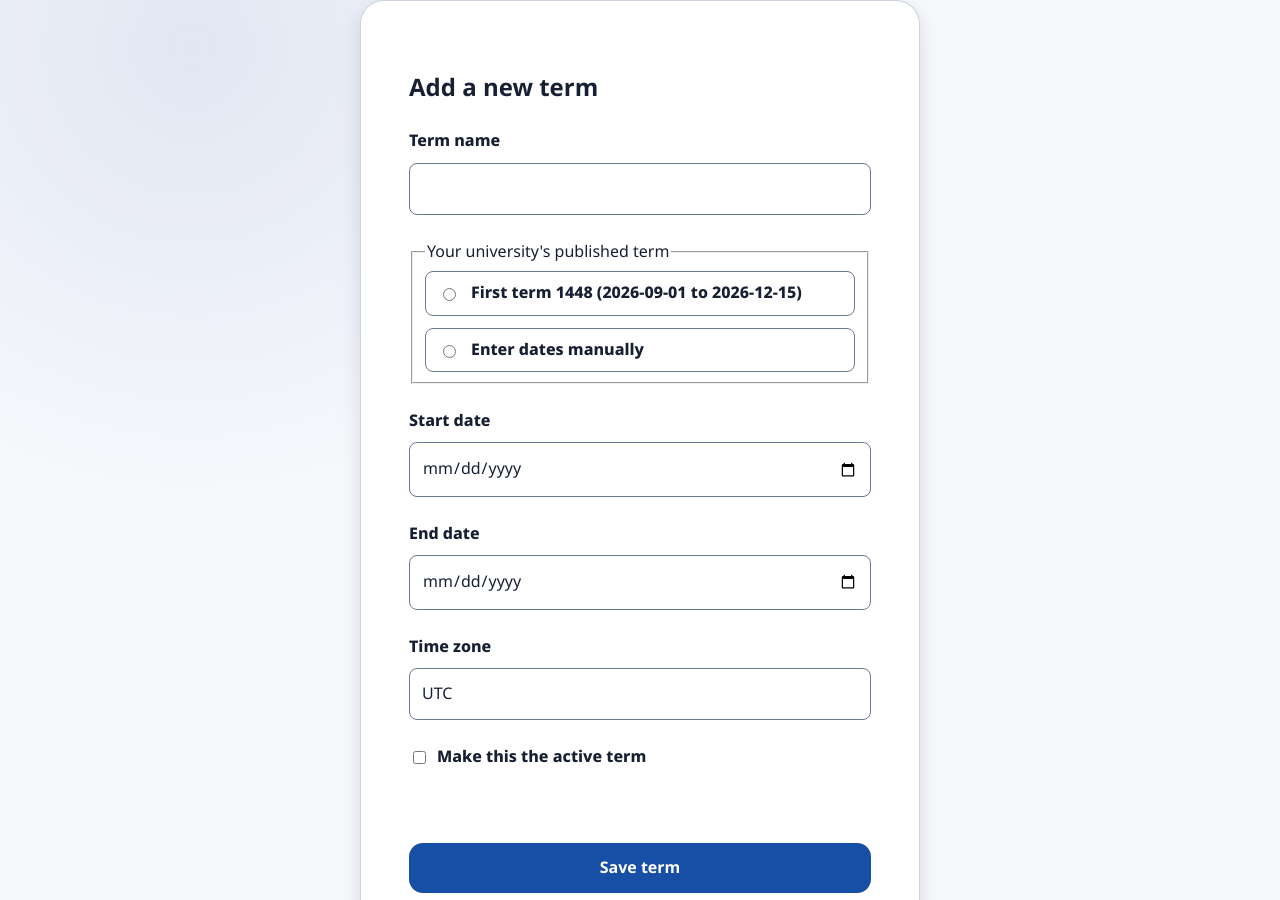
Scenario: academic term views › fills the create form's dates read-only when a published term is chosen
Click the radio button labelled "First term 1448 (2026-09-01 to 2026-12-15)" at (450, 295), box [443,288,456,301]
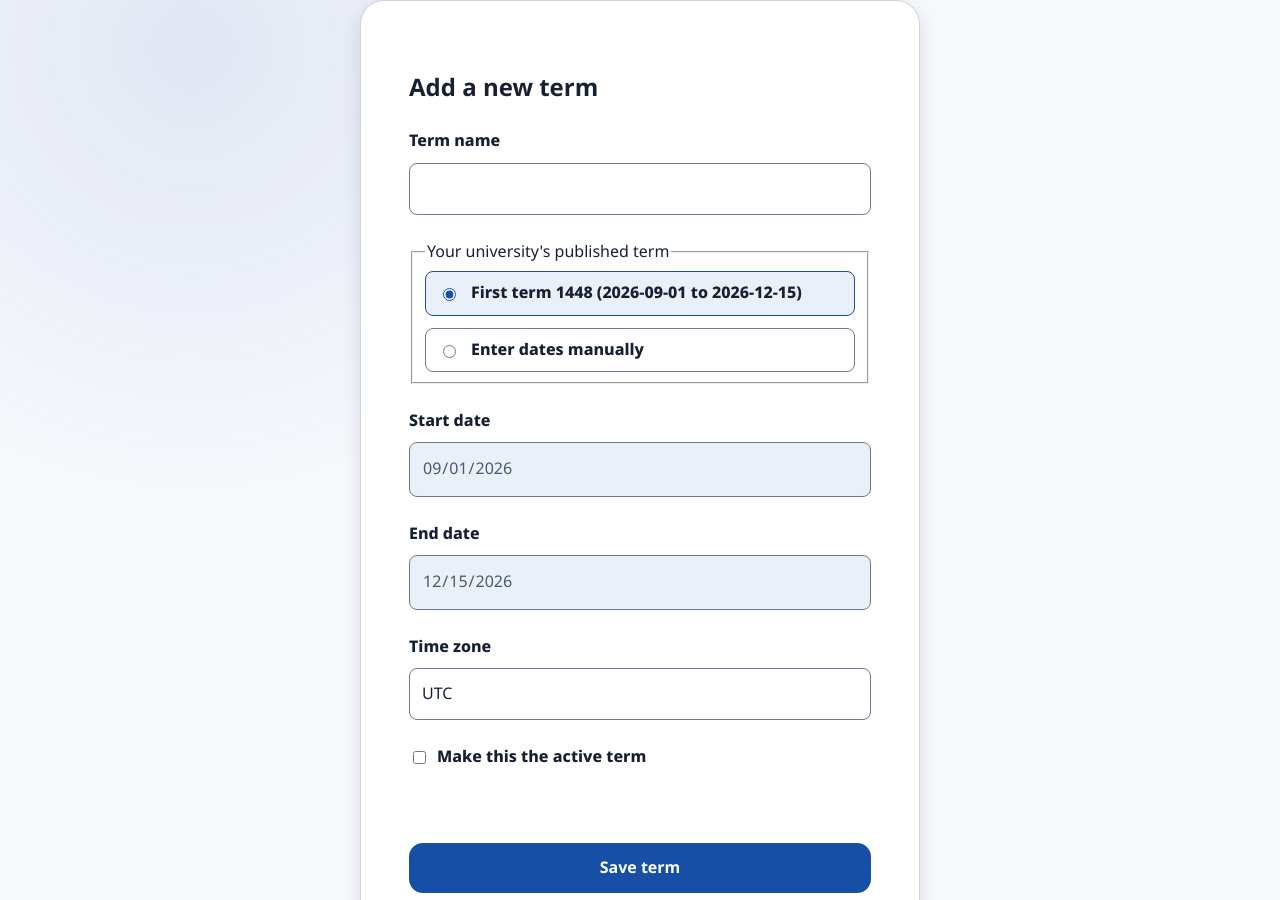
Expected: the date field labelled "Start date" holds "2026-09-01", [409,442,871,497]
Expected: the date field labelled "End date" holds "2026-12-15", [409,555,871,610]
